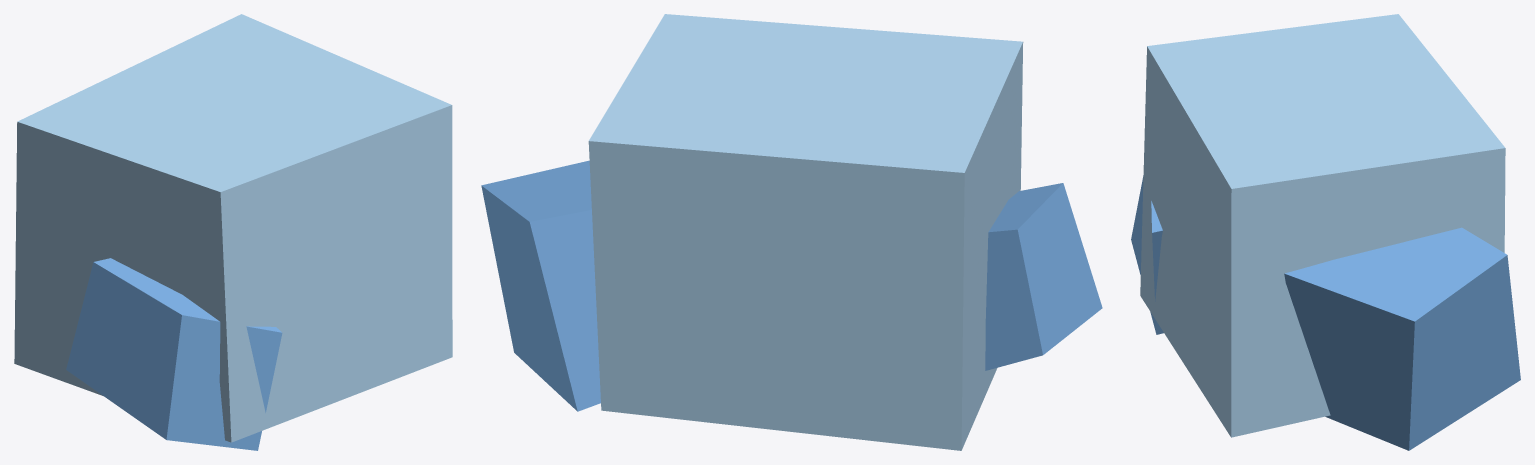
The model's file is ice.glb.
The picture shows the model from 3 angles, left to right: view 1: azimuth 30°, elevation 25°; view 2: azimuth 150°, elevation 25°; view 3: azimuth 270°, elevation 25°; orthographic projection. The views are drawn at different scales.
Visible parts, largest first — view 1: Ice; view 2: Ice; view 3: Ice.
Boxes of the visible parts, x1,y1,x2,y2 form: Ice: (14, 14, 452, 450); Ice: (481, 14, 1102, 450); Ice: (1131, 14, 1520, 450).
Size of the model in its own units: 1.78 by 1.08 by 1.42.
